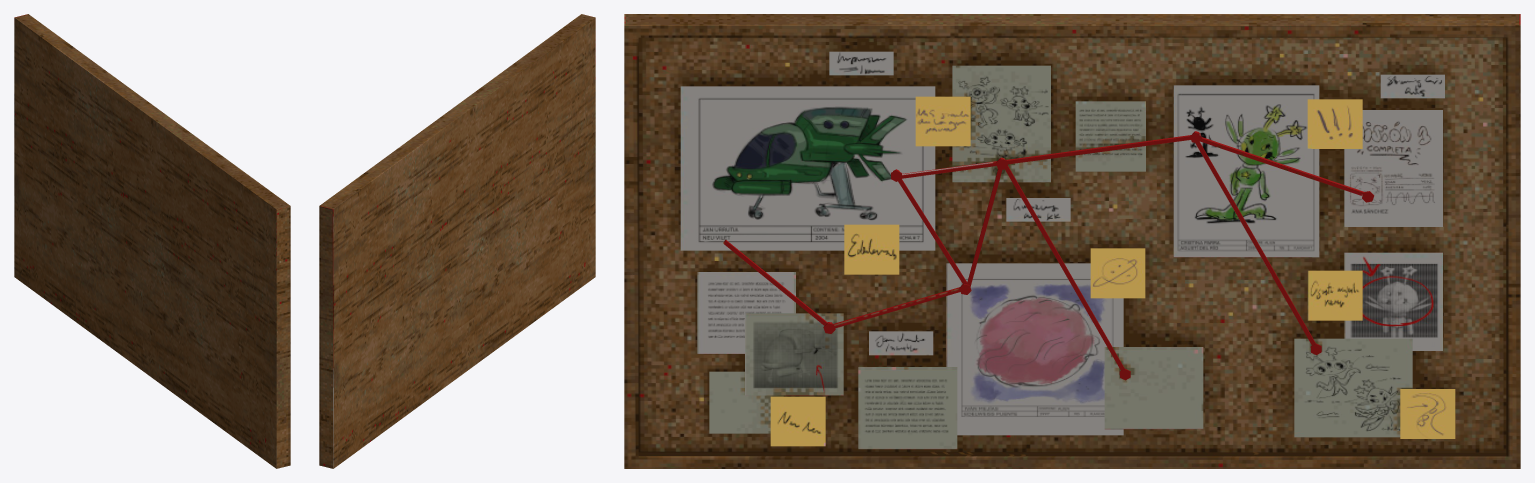
The model's file is MOD_n1_corchoV2.fbx.
The picture shows the model from 3 angles, left to right: view 1: azimuth 30°, elevation 25°; view 2: azimuth 150°, elevation 25°; view 3: azimuth 270°, elevation 25°; orthographic projection. The views are drawn at different scales.
Visible parts, largest first — view 1: MOD_n1_corcho; view 2: MOD_n1_corcho; view 3: MOD_n1_corcho.
Part boxes in pixels (bbox=[...]): MOD_n1_corcho: bbox=[14, 14, 290, 468]; MOD_n1_corcho: bbox=[319, 14, 595, 468]; MOD_n1_corcho: bbox=[624, 14, 1520, 468].
Bounding box in the file's own units: 9.22 × 82.81 × 152.
Materials: 1 (1 with a texture image).
